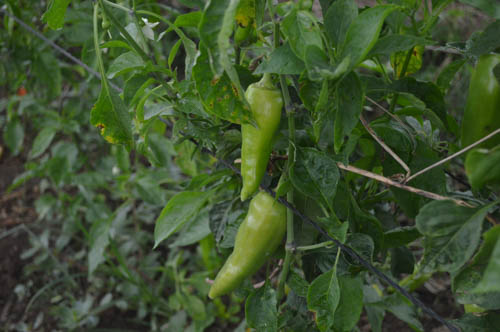ChiliPepper: (211, 194, 287, 297), (238, 85, 284, 200)
